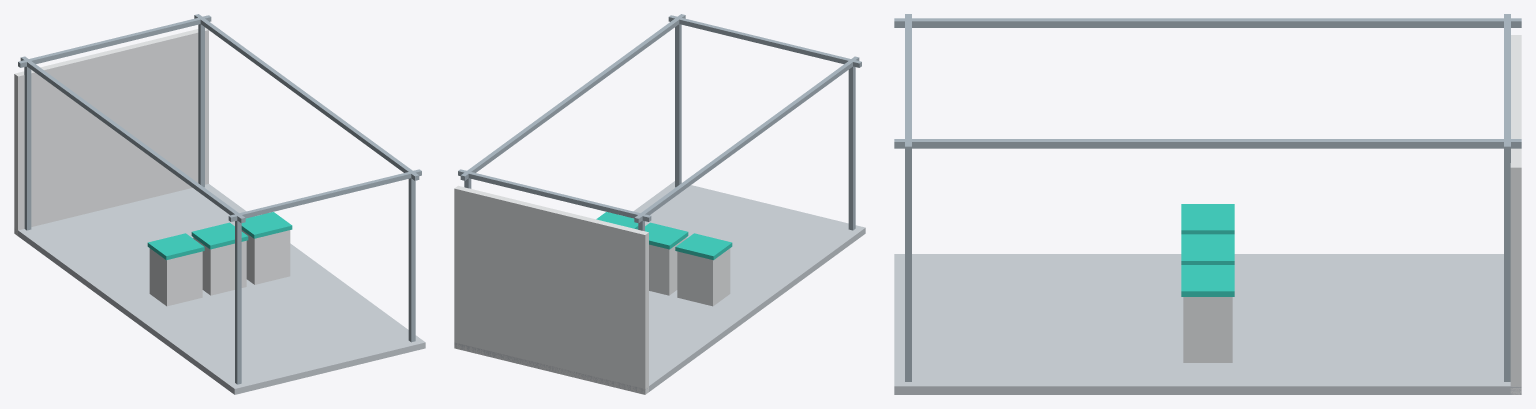
3 renders of one model, left to right at view 1: azimuth 30°, elevation 25°; view 2: azimuth 150°, elevation 25°; view 3: azimuth 270°, elevation 25°, orthographic. The views are drawn at different scales.
Visible parts, largest first — view 1: Exhibition Booth Concept; view 2: Exhibition Booth Concept; view 3: Exhibition Booth Concept.
Boxes of the visible parts, box(x1,y1,x2,y2) form: Exhibition Booth Concept: box(14, 14, 425, 394); Exhibition Booth Concept: box(454, 14, 865, 394); Exhibition Booth Concept: box(894, 14, 1521, 394).
Bounding box in the file's own units: 4 × 3.49 × 8.
